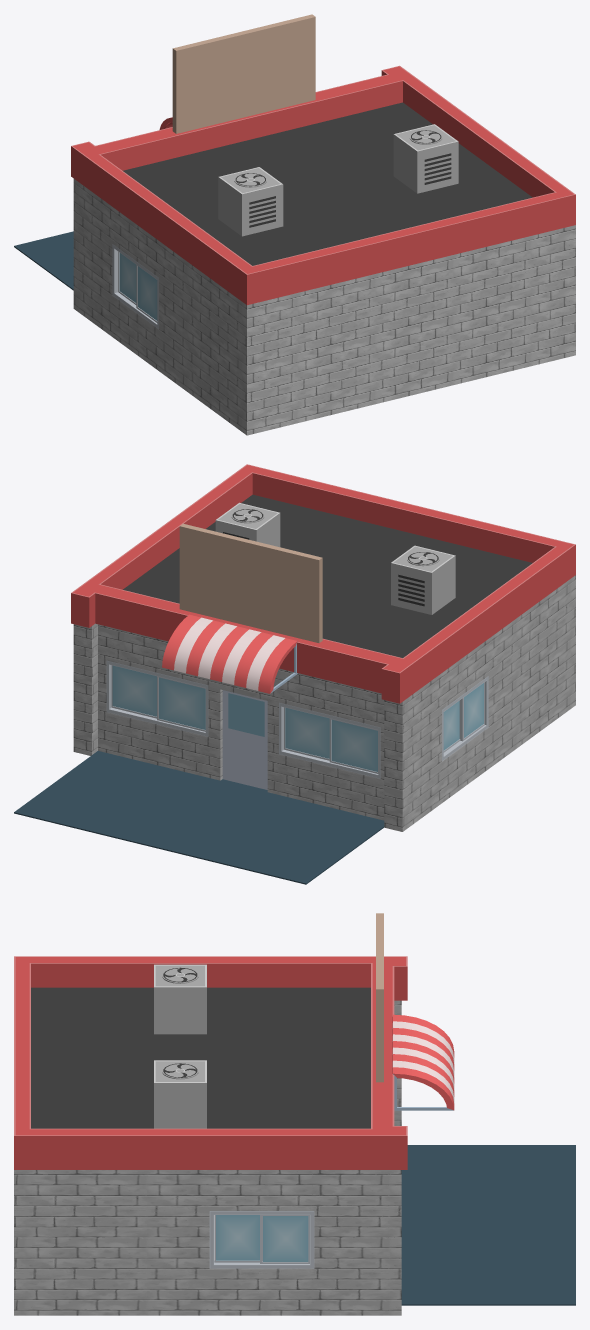
Rendered from Frutera.FBX.
3 views of the same model, one above another, from view 1: azimuth 30°, elevation 25°; view 2: azimuth 150°, elevation 25°; view 3: azimuth 270°, elevation 25° (orthographic). The views are drawn at different scales.
Parts seen in each view (by area): view 1: Frutera, Ventanas001; view 2: Frutera, Ventanas001, Puertas001; view 3: Frutera, Ventanas001.
Boxes of the visible parts, <box> form: Frutera: <box>14,14,575,435</box>; Ventanas001: <box>112,244,158,328</box>; Frutera: <box>14,464,575,884</box>; Ventanas001: <box>106,660,488,778</box>; Puertas001: <box>222,690,267,789</box>; Frutera: <box>14,913,575,1315</box>; Ventanas001: <box>209,1211,314,1268</box>.
Bounding box in the file's own units: 802 × 1059 × 567.
